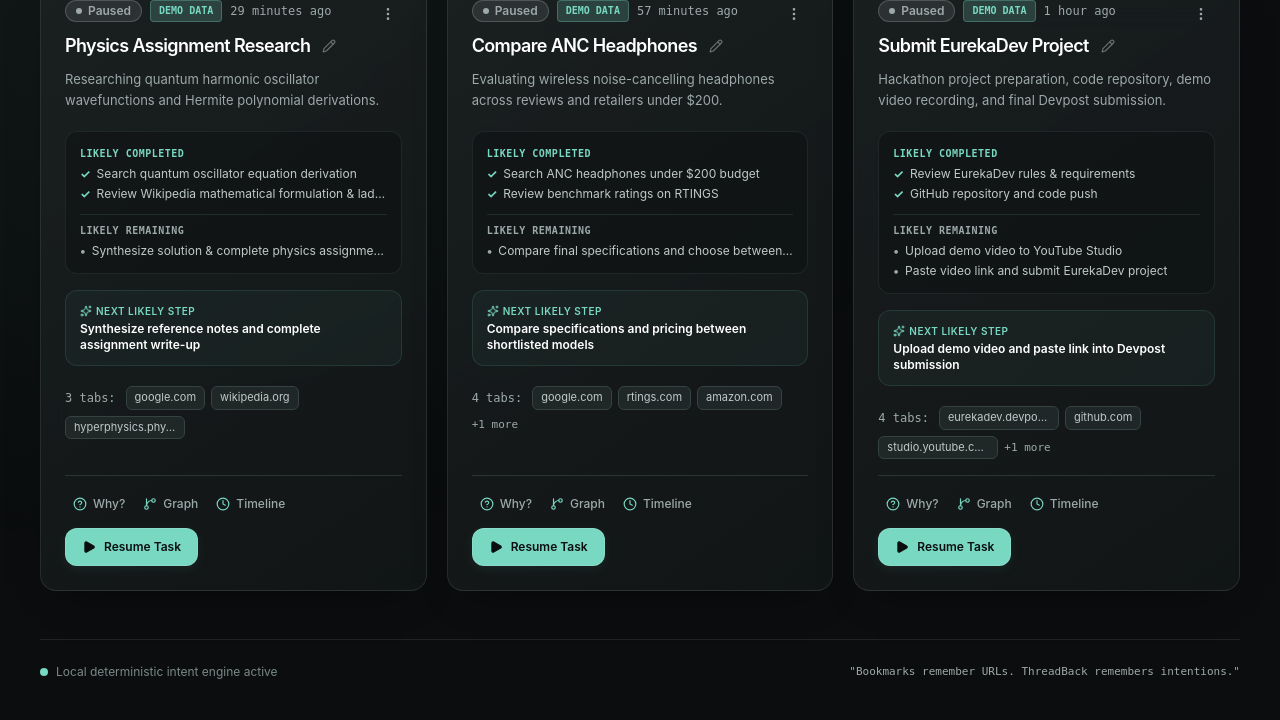
Phase 9: Dashboard UI Component & Workflow Tests › opens Why Was This Grouped modal when clicking Why? button
This screenshot has width=1280, height=720.
(page scrolled)
Check: the heading "Submit EurekaDev Project" is shown, box x1=878 y1=34 x2=1089 y2=59
Click the button titled "Why were these tabs grouped" below "hyperphysics.phy-astr.gsu.edu". click: [99, 504]
box: x1=65 y1=488 x2=133 y2=520
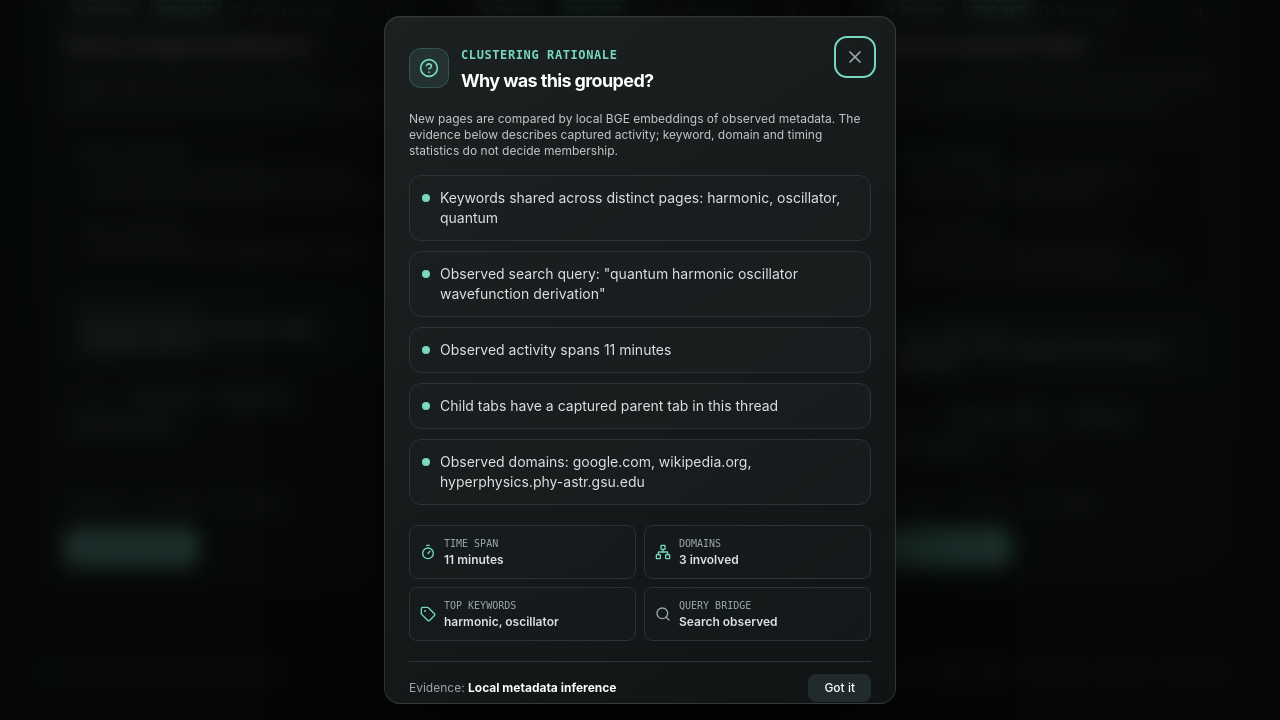
Check: the heading "Why was this grouped?" is shown, box x1=461 y1=67 x2=654 y2=95
Check: the text "Clustering Rationale" is shown, box x1=461 y1=48 x2=618 y2=62
